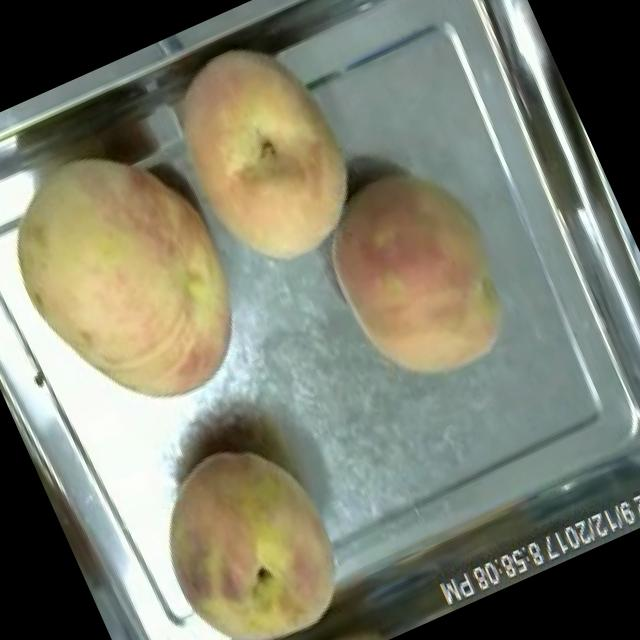Fruit: (0, 107, 281, 449), (134, 11, 392, 302), (294, 140, 540, 413), (119, 414, 374, 640)
